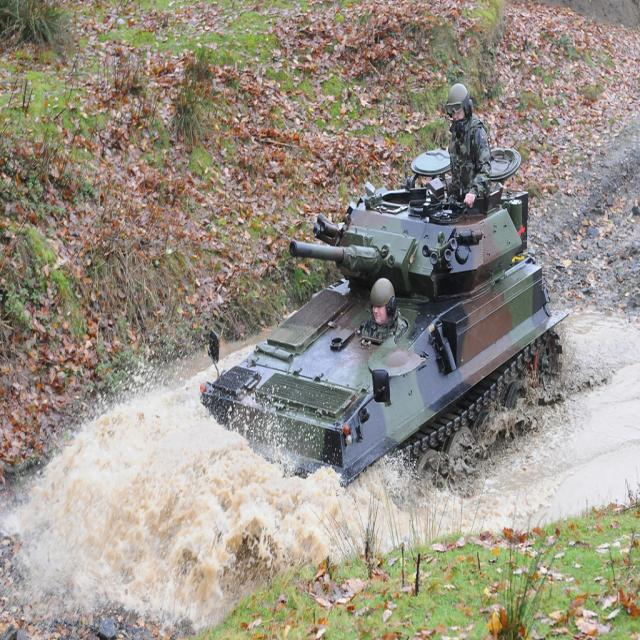tank: (199, 149, 569, 510)
